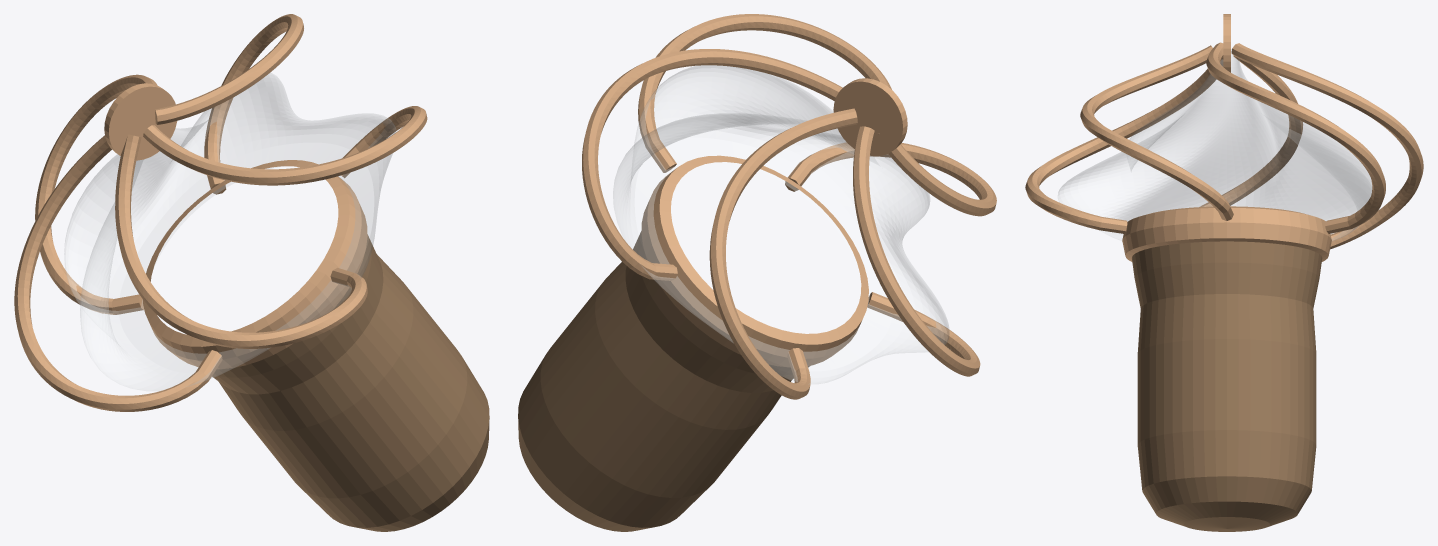
The model's file is cork-wine-cap.glb.
3 views of the same model, side by side, from view 1: azimuth 30°, elevation 25°; view 2: azimuth 150°, elevation 25°; view 3: azimuth 270°, elevation 25° (orthographic). The views are drawn at different scales.
Visible parts, largest first — view 1: Cork, GlassSwirl, CopperCollar, CopperRibbon_2, CopperRibbon_1, CopperRibbon_0, CopperRibbon_4, CopperRibbon_3, CopperEmblem; view 2: Cork, GlassSwirl, CopperCollar, CopperRibbon_4, CopperRibbon_3, CopperRibbon_2, CopperRibbon_0, CopperRibbon_1, CopperEmblem; view 3: Cork, GlassSwirl, CopperCollar, CopperRibbon_3, CopperRibbon_0, CopperRibbon_1, CopperRibbon_4, CopperRibbon_2.
Part boxes in pixels (x1=…): Cork: x1=212, y1=234, x2=489, y2=531; GlassSwirl: x1=64, y1=72, x2=395, y2=390; CopperCollar: x1=143, y1=160, x2=367, y2=369; CopperRibbon_2: x1=14, y1=135, x2=222, y2=411; CopperRibbon_1: x1=115, y1=134, x2=367, y2=348; CopperRibbon_0: x1=143, y1=106, x2=427, y2=185; CopperRibbon_4: x1=155, y1=14, x2=303, y2=194; CopperRibbon_3: x1=35, y1=74, x2=157, y2=314; CopperEmblem: x1=104, y1=83, x2=177, y2=160; Cork: x1=518, y1=231, x2=810, y2=531; GlassSwirl: x1=613, y1=65, x2=949, y2=383; CopperCollar: x1=641, y1=155, x2=868, y2=367; CopperRibbon_4: x1=582, y1=49, x2=842, y2=280; CopperRibbon_3: x1=709, y1=108, x2=857, y2=399; CopperRibbon_2: x1=853, y1=126, x2=980, y2=376; CopperRibbon_0: x1=638, y1=14, x2=891, y2=172; CopperRibbon_1: x1=785, y1=133, x2=996, y2=216; CopperEmblem: x1=833, y1=78, x2=907, y2=156; Cork: x1=1132, y1=241, x2=1322, y2=531; GlassSwirl: x1=1058, y1=49, x2=1372, y2=240; CopperCollar: x1=1122, y1=206, x2=1331, y2=261; CopperRibbon_3: x1=1231, y1=43, x2=1423, y2=249; CopperRibbon_0: x1=1080, y1=45, x2=1233, y2=220; CopperRibbon_1: x1=1025, y1=53, x2=1231, y2=233; CopperRibbon_4: x1=1206, y1=42, x2=1385, y2=233; CopperRibbon_2: x1=1200, y1=56, x2=1303, y2=206.
Size of the model in its own units: 2.8 by 3 by 2.58.
